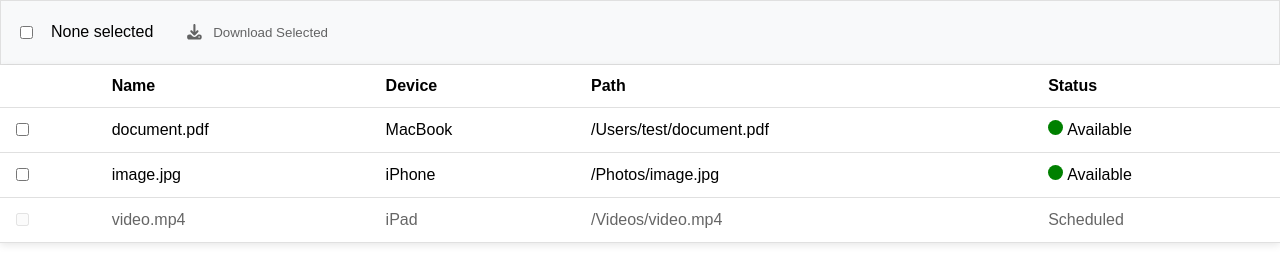
Test: FileTable Component › select all functionality works correctly
Click the checkbox named "Select all available files": {"x": 26, "y": 32} [20, 26, 33, 39]
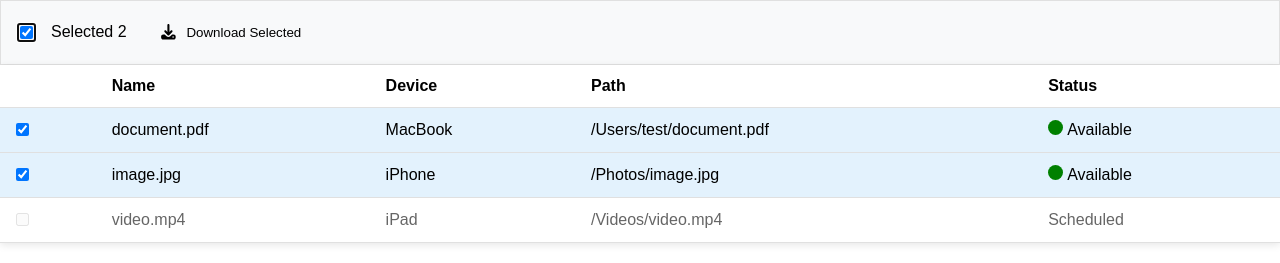
expect the text "Selected 2" is shown: met, box [51, 23, 127, 41]
expect the checkbox named "Select document.pdf" is checked: met, box [16, 123, 29, 136]
expect the checkbox named "Select image.jpg" is checked: met, box [16, 168, 29, 181]
